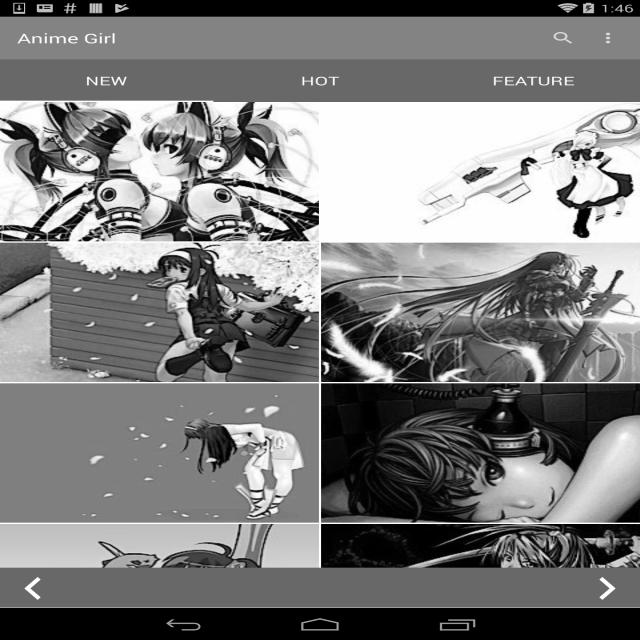ImageView: (0, 383, 320, 523), (321, 383, 640, 523), (0, 102, 320, 241), (0, 243, 320, 382), (321, 102, 640, 241), (321, 243, 640, 382), (0, 524, 320, 640), (321, 524, 640, 640), (538, 22, 588, 54), (589, 22, 631, 54), (11, 574, 53, 601), (587, 574, 629, 601)
TextView: (17, 29, 116, 47), (492, 72, 574, 89), (86, 72, 128, 89), (301, 72, 339, 89)
